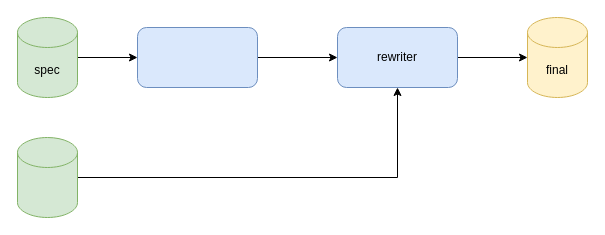
This 605x235 diagram has some shape labels left out. Each missing label, with the box of its shape:
spec 2 rewriter: (136, 26, 258, 88)
text: (16, 136, 78, 218)
